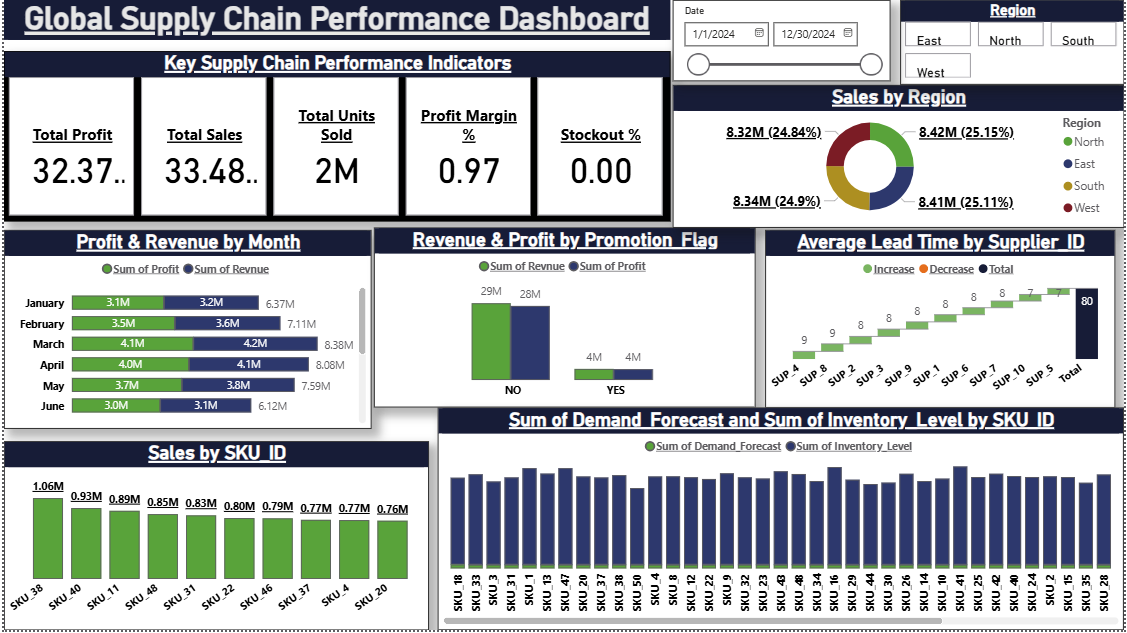

The page's visual inventory and layout, read from the dashboard file:
{"tool":"powerbi","page":{"name":"Page 1","canvas":[1280,720],"ordinal":0},"visuals":[{"type":"cardVisual","title":"Key Supply Chain Performance Indicators","fields":{"Data":["Dataset.Total Profit","Dataset.Total Sales","Dataset.Total Units Sold","Dataset.Profit Margin %","Dataset.Stockout %"]},"box":[0,58.6,761.4,194.3],"z":0},{"type":"textbox","title":"Global Supply Chain Performance Dashboard","box":[0,0,761.4,48.6],"z":1000},{"type":"barChart","title":"Profit & Revenue by Month","fields":{"Category":["Dataset.Date.Variation.Date Hierarchy.Month"],"Y":["Sum(Dataset.Profit)","Sum(Dataset.Revnue)"]},"box":[0,262.9,420,227.1],"z":2000},{"type":"clusteredColumnChart","title":"Sales by SKU_ID","fields":{"Category":["Dataset.SKU_ID"],"Y":["Dataset.Total Sales"]},"box":[0,504.3,485.7,215.7],"z":3000},{"type":"clusteredColumnChart","title":"Revenue & Profit by Promotion_Flag","fields":{"Category":["Dataset.Promotion_Flag"],"Y":["Sum(Dataset.Revnue)","Sum(Dataset.Profit)"]},"box":[422.9,260,435.7,205.7],"z":4000},{"type":"donutChart","title":"Sales by Region","fields":{"Category":["Dataset.Region"],"Y":["Dataset.Total Sales"]},"box":[764.3,97.1,515.7,162.9],"z":5000},{"type":"waterfallChart","fields":{"Category":["Dataset.Supplier_ID"],"Y":["Dataset.Average Lead Time"]},"box":[870,262.9,400,202.9],"z":6000},{"type":"lineStackedColumnComboChart","fields":{"Y":["Sum(Dataset.Demand_Forecast)","Sum(Dataset.Inventory_Level)"],"Category":["Dataset.SKU_ID"]},"box":[495.7,465.7,784.3,254.3],"z":7000},{"type":"advancedSlicerVisual","fields":{"Values":["Dataset.Region"]},"box":[1024.3,0,255.7,97.1],"z":8000},{"type":"slicer","fields":{"Values":["Dataset.Date"]},"box":[764.3,0,248.6,92.9],"z":9000}]}

Visuals, with their boxes in screenshot pixels (x1, y1, x2, y2), scaled from the page's 1280x720 canvas onto the 1127x633 screenshot:
"Key Supply Chain Performance Indicators" cardVisual: 0, 52, 670, 222
"Global Supply Chain Performance Dashboard" textbox: 0, 0, 670, 43
"Profit & Revenue by Month" barChart: 0, 231, 370, 431
"Sales by SKU_ID" clusteredColumnChart: 0, 443, 428, 632
"Revenue & Profit by Promotion_Flag" clusteredColumnChart: 372, 229, 756, 409
"Sales by Region" donutChart: 673, 85, 1126, 229
waterfallChart - Dataset.Supplier_ID x Dataset.Average Lead Time: 766, 231, 1118, 410
lineStackedColumnComboChart - Sum(Dataset.Demand_Forecast) x Sum(Dataset.Inventory_Level): 436, 409, 1126, 632
advancedSlicerVisual - Dataset.Region: 902, 0, 1126, 85
slicer - Dataset.Date: 673, 0, 892, 82
